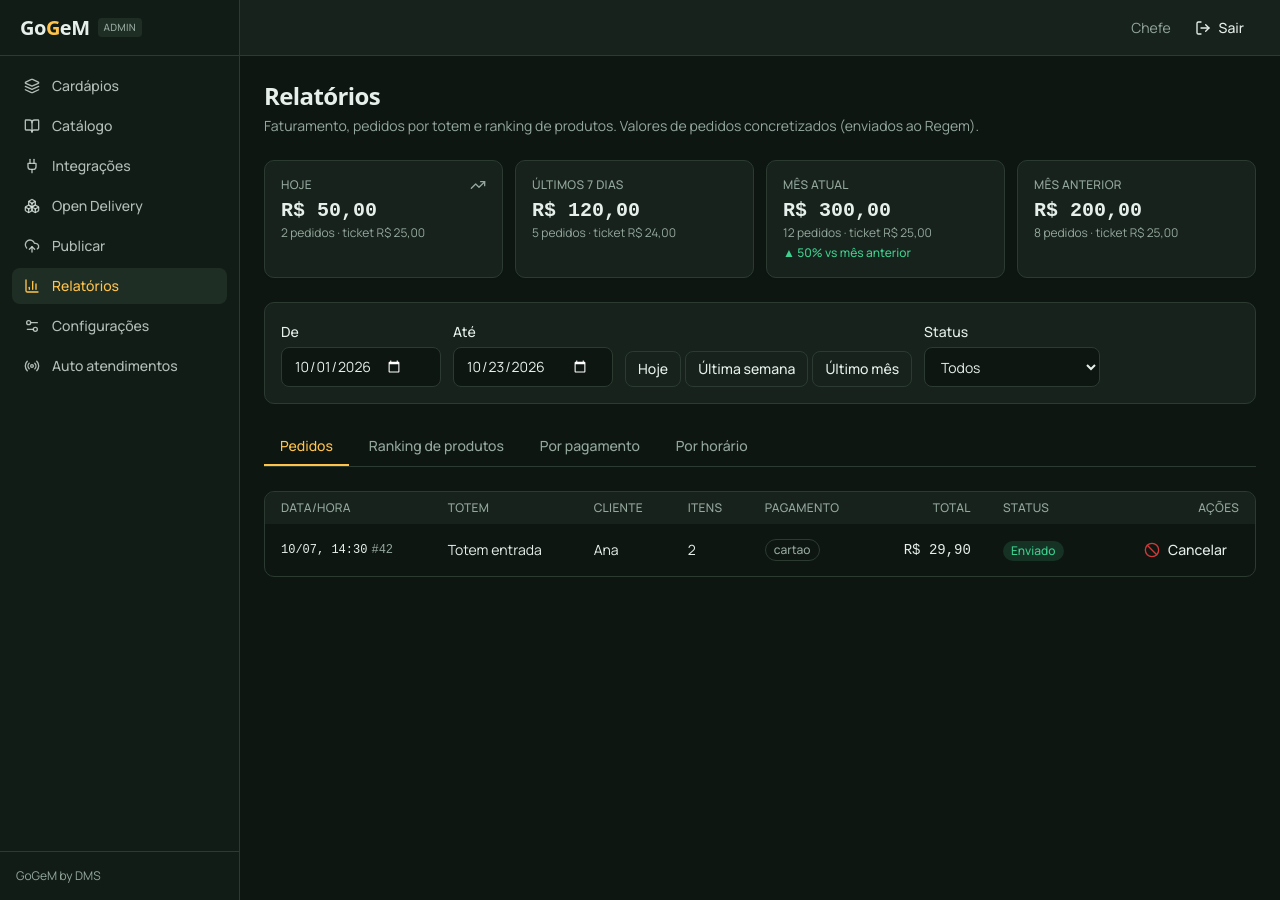
Relatórios — cancelamento com o Regem ativo › recusa do servidor (409) aparece com o motivo real, não um erro genérico
Click the button with aria-label "Cancelar pedido" at (1186,550), box [1132,532,1239,568]
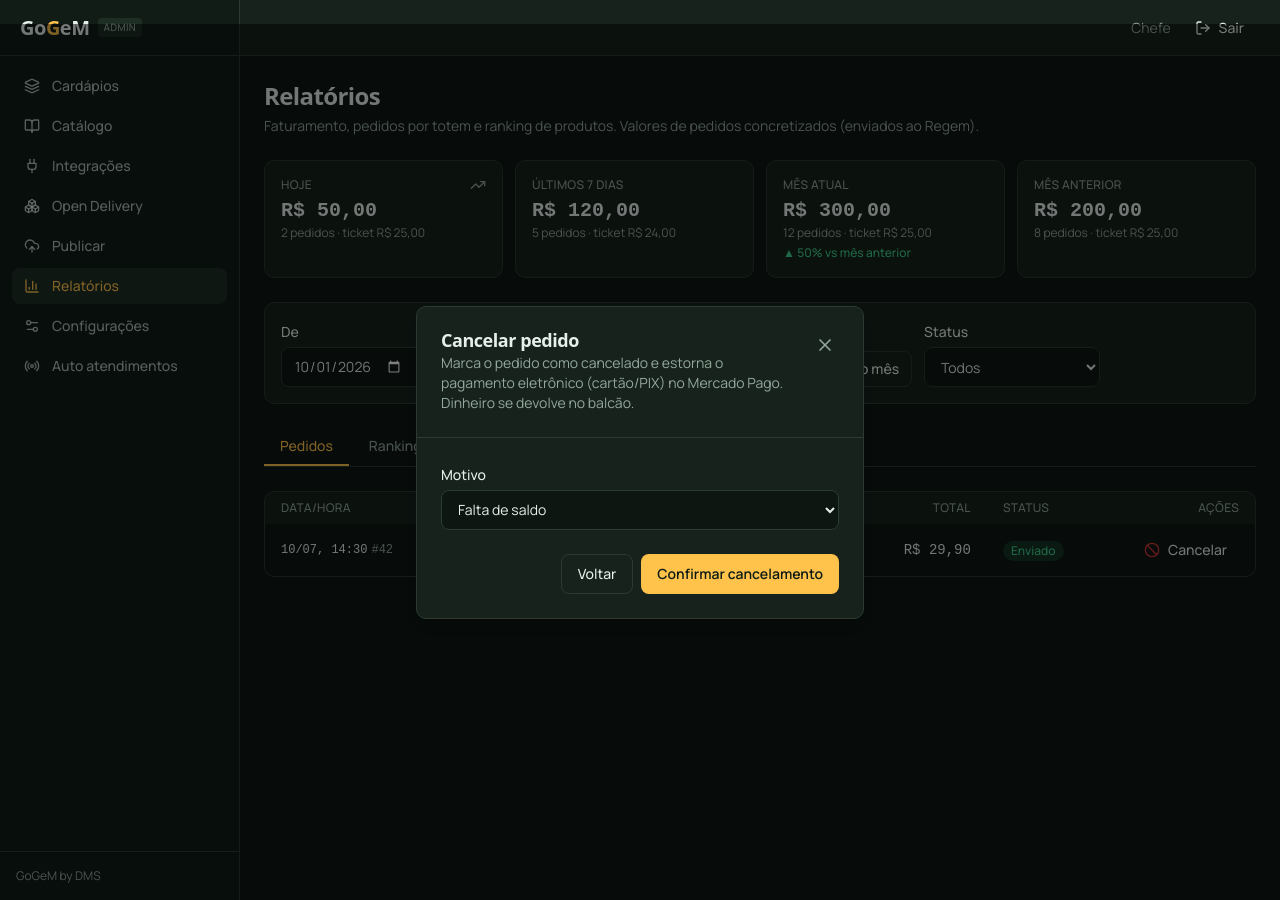
Click the button "Confirmar cancelamento" at (740,574), box [641,554,839,594]
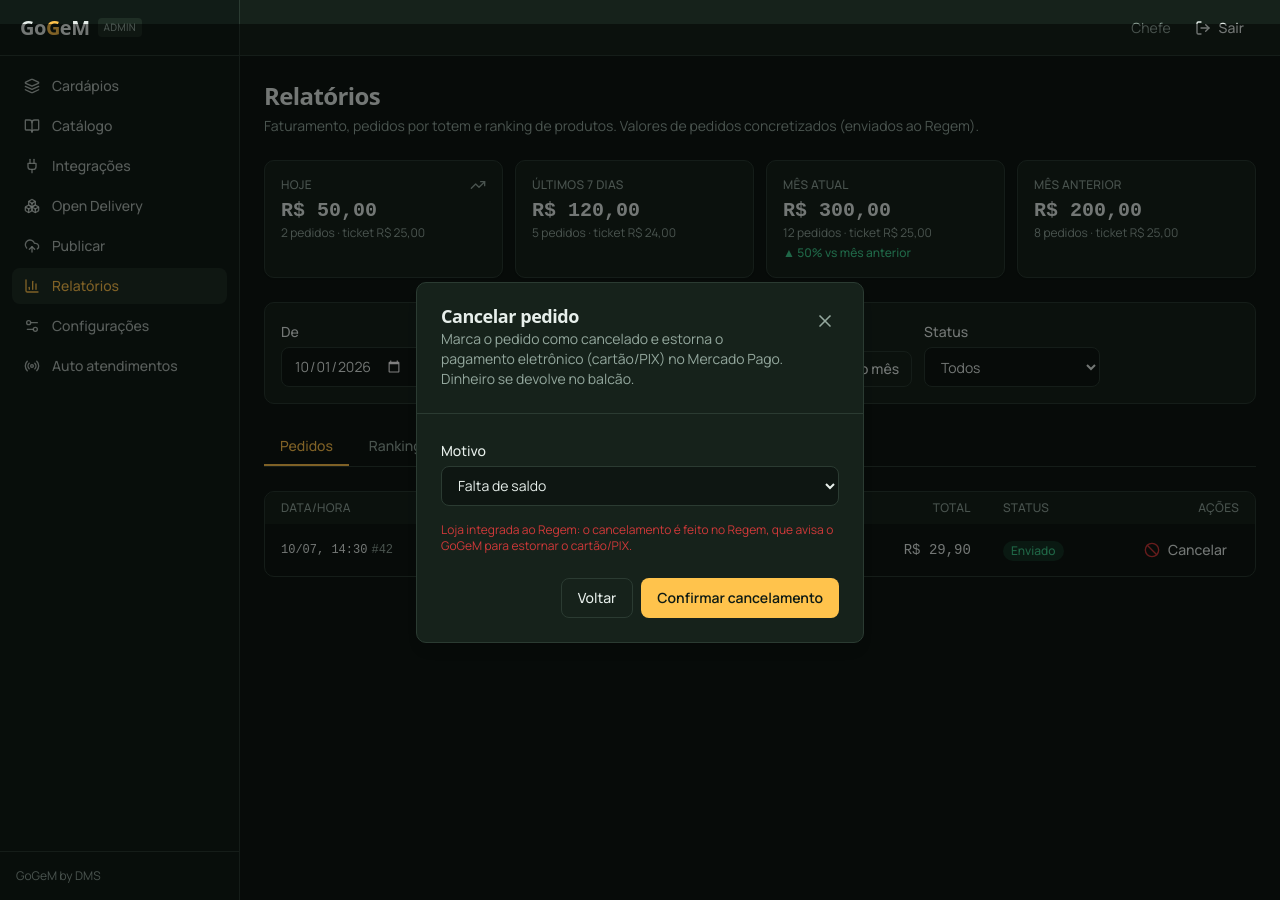
Check: the text "o cancelamento é feito no Regem" is shown, box [441,520,833,554]
